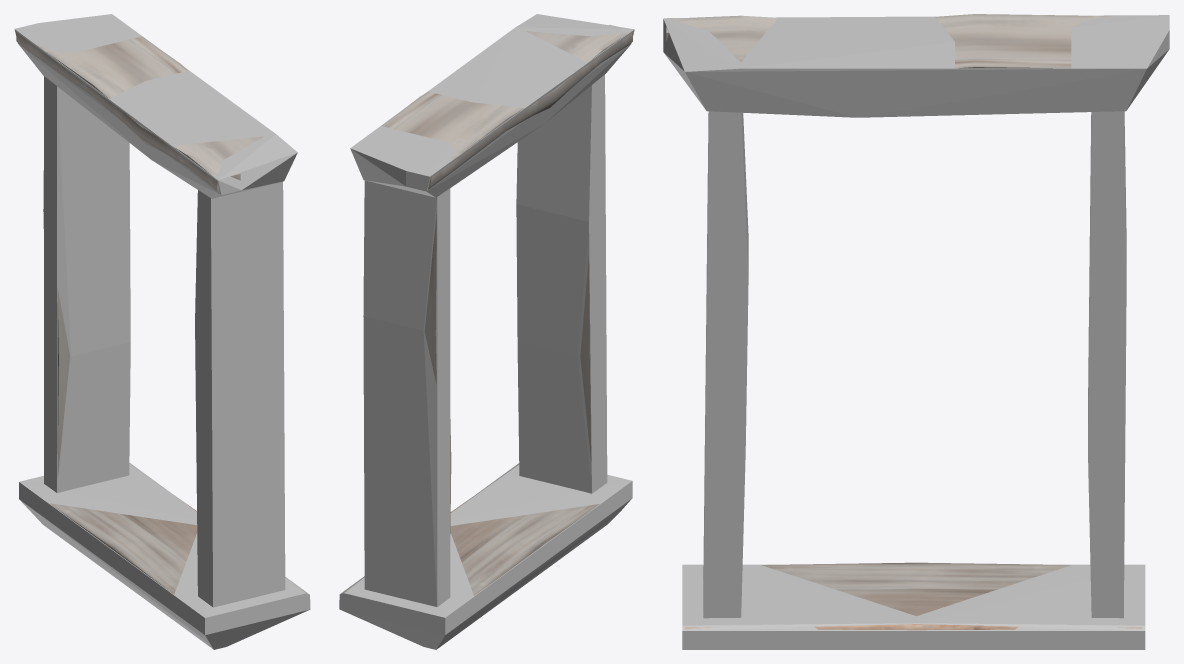
Rendered from SM_PropWindow01TypeA_1_2.fbx.
3 views of the same model, side by side, from view 1: azimuth 30°, elevation 25°; view 2: azimuth 150°, elevation 25°; view 3: azimuth 270°, elevation 25° (orthographic). The views are drawn at different scales.
Visible parts, largest first — view 1: SM_PropWindow01TypeA_1_2_ConvexHulls, SM_PropWindow01TypeA_1_2; view 2: SM_PropWindow01TypeA_1_2_ConvexHulls, SM_PropWindow01TypeA_1_2; view 3: SM_PropWindow01TypeA_1_2_ConvexHulls, SM_PropWindow01TypeA_1_2.
Boxes of the visible parts, x1,y1,x2,y2 form: SM_PropWindow01TypeA_1_2_ConvexHulls: (14,14,310,649); SM_PropWindow01TypeA_1_2: (16,32,305,594); SM_PropWindow01TypeA_1_2_ConvexHulls: (339,14,634,649); SM_PropWindow01TypeA_1_2: (343,24,632,595); SM_PropWindow01TypeA_1_2_ConvexHulls: (663,15,1169,649); SM_PropWindow01TypeA_1_2: (666,14,1141,630).
Size of the model in its own units: 45.08 by 151 by 199.
Materials: 2 (1 with a texture image).
